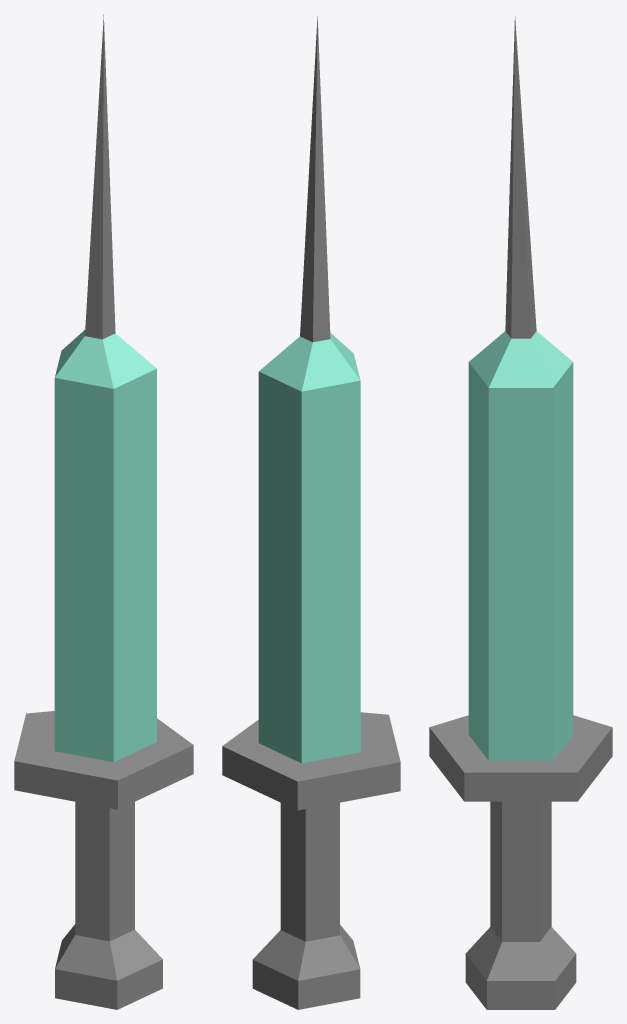
Rendered from Teal.fbx.
3 renders of one model, left to right at view 1: azimuth 30°, elevation 25°; view 2: azimuth 150°, elevation 25°; view 3: azimuth 270°, elevation 25°, orthographic.
Visible parts, largest first — view 1: Teal; view 2: Teal; view 3: Teal.
Boxes of the visible parts, bbox=[...] form: Teal: bbox=[14, 14, 193, 1009]; Teal: bbox=[222, 16, 400, 1009]; Teal: bbox=[429, 16, 612, 1009].
Size of the model in its own units: 0.0543 by 0.3348 by 0.0571.
